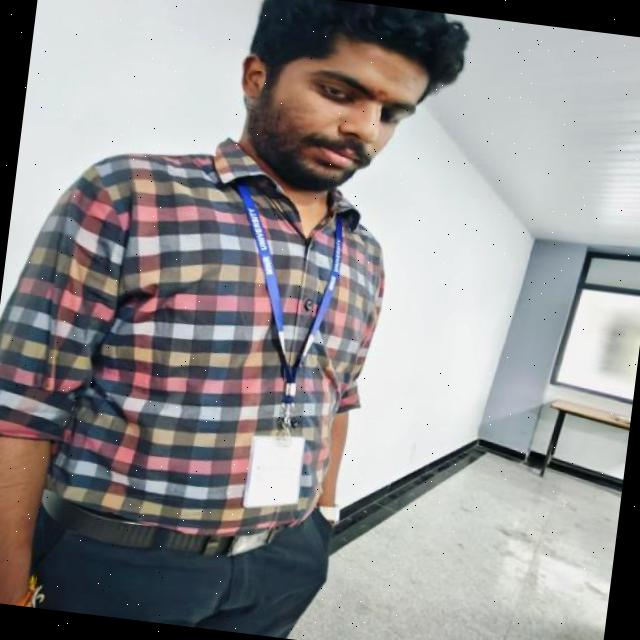Card: (243, 436, 304, 508)
Id strap: (239, 185, 343, 387)
